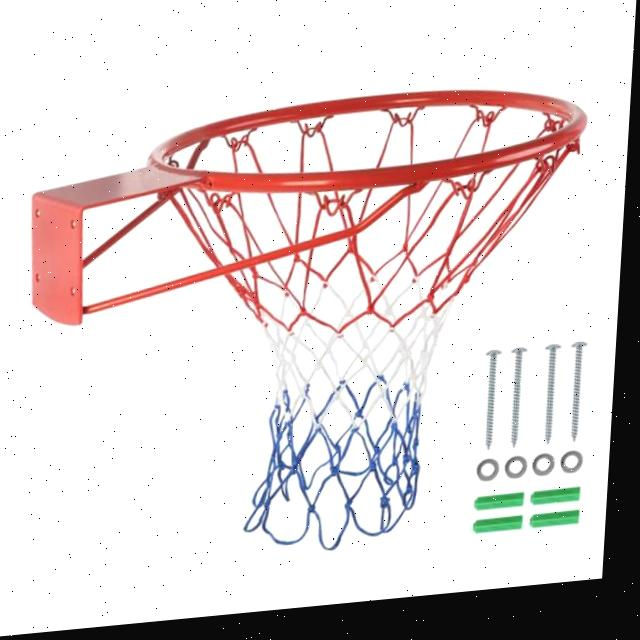hoop: (124, 73, 590, 570)
